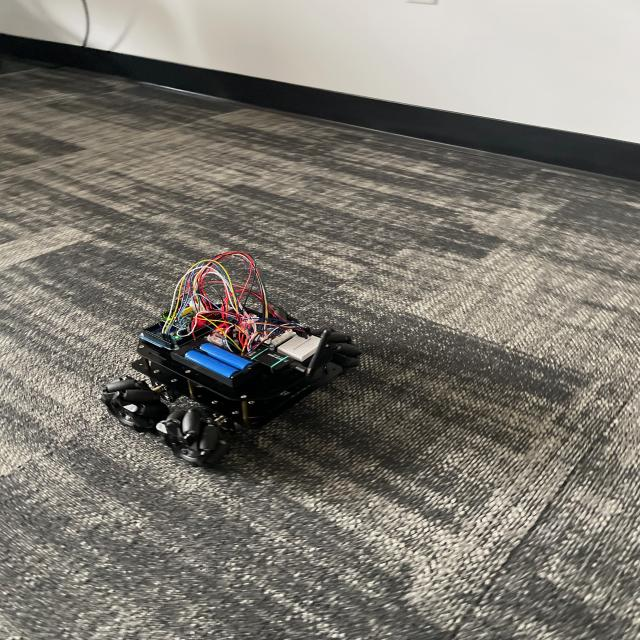ArduinoCar3: (91, 240, 360, 468)
